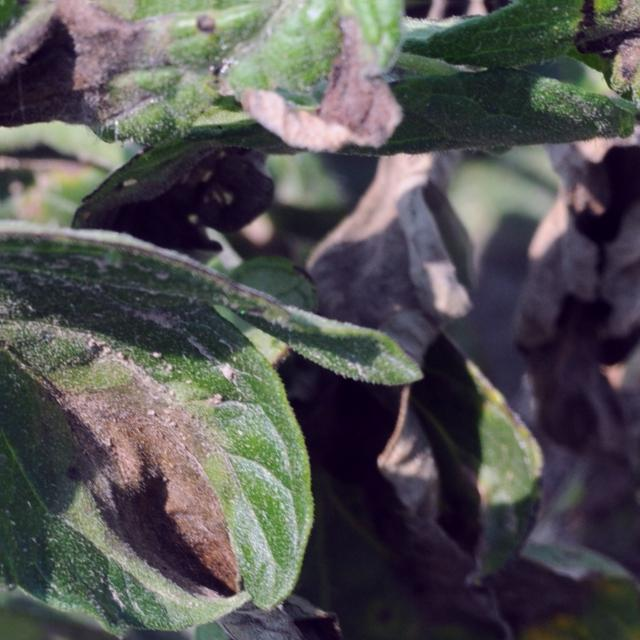Tomato leaf late blight: (0, 213, 349, 640), (0, 0, 467, 185)
